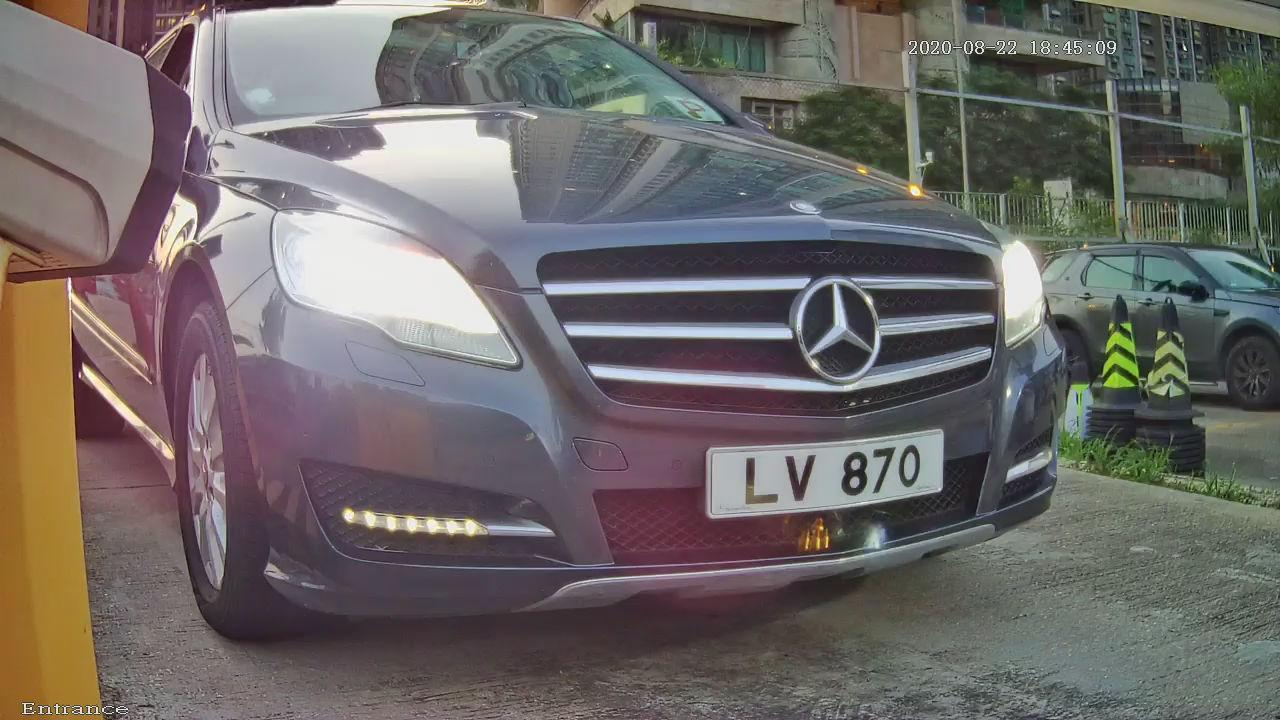Car: (29, 17, 1149, 663)
License Plate: (672, 406, 1015, 556)
